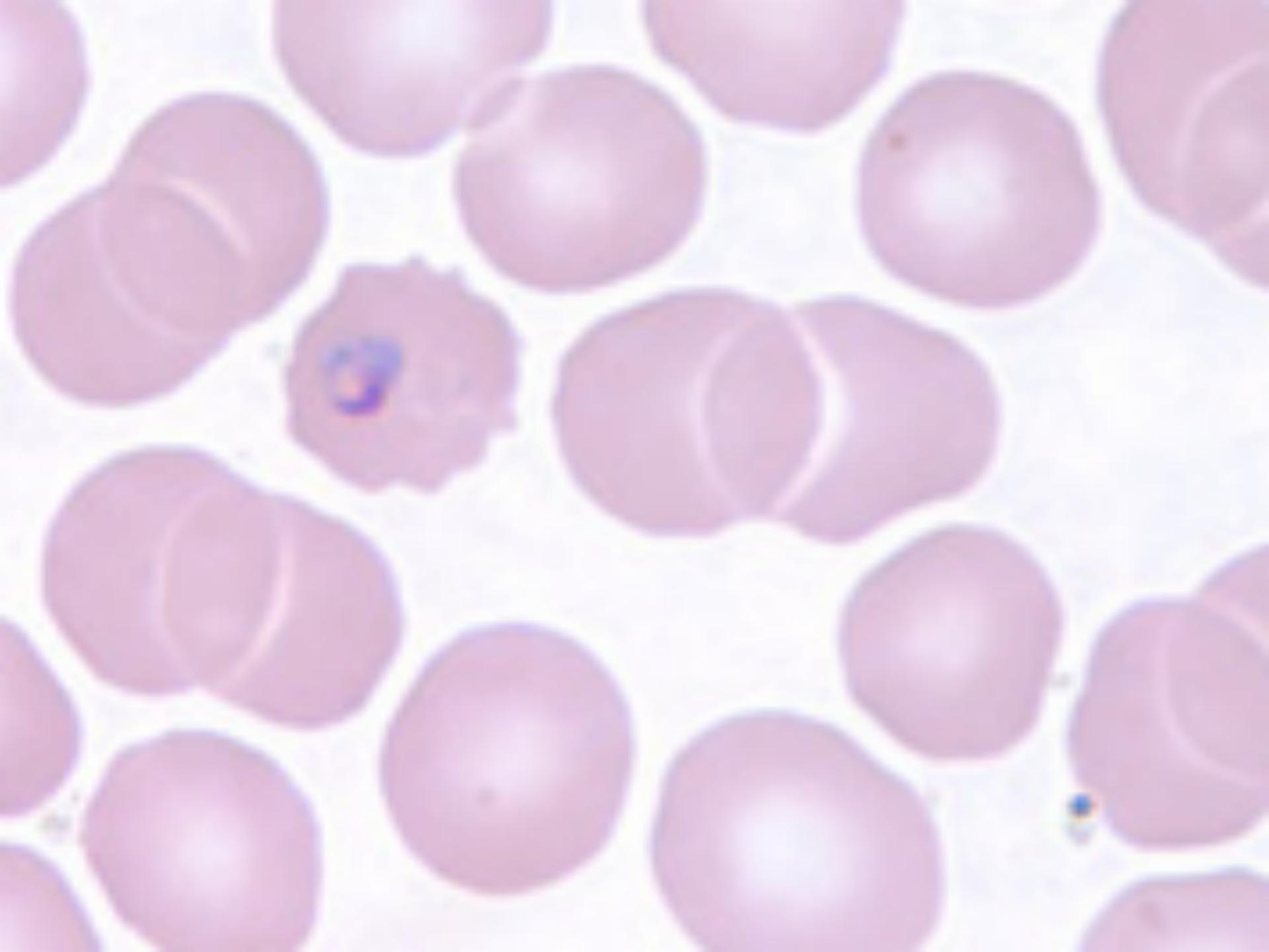Infected: (283, 261, 519, 492)
Uninfected: (699, 291, 1000, 544), (382, 623, 635, 901), (656, 713, 943, 952), (554, 288, 819, 536), (38, 445, 288, 694), (155, 488, 407, 731), (858, 65, 1096, 307), (454, 66, 708, 291), (97, 91, 326, 336), (1064, 594, 1269, 854), (7, 179, 239, 406), (78, 733, 318, 952), (838, 528, 1062, 761), (268, 0, 548, 157), (1099, 0, 1269, 237), (641, 0, 900, 136)
